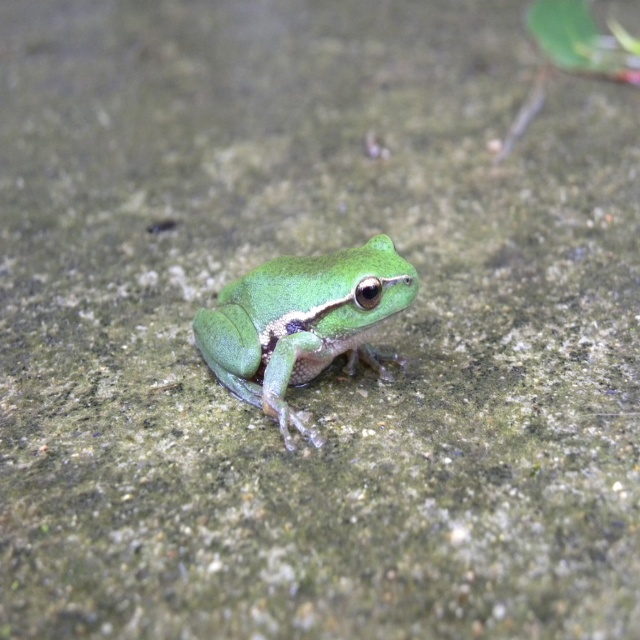Frog: (191, 230, 419, 451)
